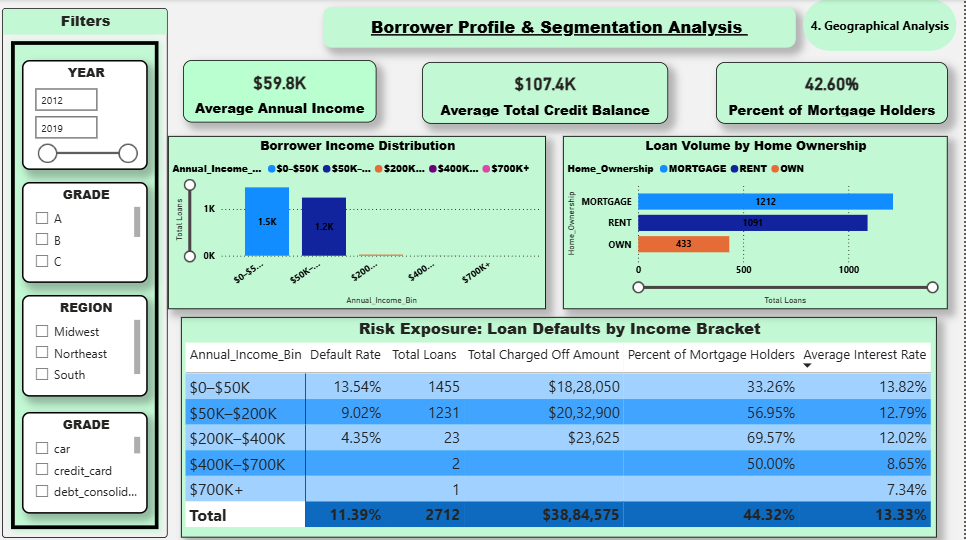

Layout of this report page (visuals, bound fields, positions):
{"tool":"powerbi","page":{"name":"3.  Borrower Profile Analysis","canvas":[1280,720],"ordinal":3},"visuals":[{"type":"shape","title":"Filters","box":[2.9,11.4,220,704.3],"z":0},{"type":"slicer","title":"YEAR","fields":{"Values":["loan_cleaned.Issue_year"]},"box":[29.2,80.6,166.7,145.8],"z":1000},{"type":"card","fields":{"Values":["Dax.Average Annual Income"]},"box":[243.3,81.7,256.7,83.3],"z":2000},{"type":"card","fields":{"Values":["Dax.Average Total Credit Balance"]},"box":[560.2,83.7,327.1,82.2],"z":3000},{"type":"pivotTable","title":"Risk Exposure: Loan Defaults by Income Bracket","fields":{"Rows":["customer_cleaned.Annual_Income_Bin"],"Values":["Dax.Default Rate","Dax.Total Loans","Dax.Total Charged Off Amount","Dax.Percent of Mortgage Holders","Dax.Average Interest Rate"]},"box":[240,422.9,1004.3,292.9],"z":4000},{"type":"slicer","title":"GRADE","fields":{"Values":["loan_cleaned.GRADE"]},"box":[28.9,243.6,166.5,133.5],"z":5000},{"type":"slicer","title":"REGION","fields":{"Values":["state_region.REGION "]},"box":[29.2,393.1,166.7,134.7],"z":6000},{"type":"slicer","title":"GRADE","fields":{"Values":["loan_purposes.purpose"]},"box":[29.2,548.6,166.7,134.7],"z":7000},{"type":"textbox","box":[429.2,11.1,627.8,54.2],"z":8000},{"type":"card","fields":{"Values":["Dax.Percent of Mortgage Holders"]},"box":[951.5,83.7,307.7,82.2],"z":9000},{"type":"columnChart","title":"Borrower Income Distribution","fields":{"Y":["Dax.Total Loans"],"Category":["customer_cleaned.Annual_Income_Bin"],"Series":["customer_cleaned.Annual_Income_Bin"]},"box":[222.6,182.2,501.9,230],"z":10000},{"type":"barChart","title":"Loan Volume by Home Ownership","fields":{"Category":["customer_cleaned.Home_Ownership"],"Y":["Dax.Total Loans"],"Series":["customer_cleaned.Home_Ownership"]},"box":[748.4,182.2,510.9,230],"z":11000},{"type":"pageNavigator","box":[1066.7,0,204.6,69.1],"z":13000}]}

Visuals, with their boxes in screenshot pixels (x1, y1, x2, y2), scaled from the page's 1280x720 canvas onto the 966x540 screenshot:
"Filters" shape: <box>2,9,168,537</box>
"YEAR" slicer: <box>22,60,148,170</box>
card - Dax.Average Annual Income: <box>184,61,377,124</box>
card - Dax.Average Total Credit Balance: <box>423,63,670,124</box>
"Risk Exposure: Loan Defaults by Income Bracket" pivotTable: <box>181,317,939,537</box>
"GRADE" slicer: <box>22,183,147,283</box>
"REGION" slicer: <box>22,295,148,396</box>
"GRADE" slicer: <box>22,411,148,512</box>
textbox: <box>324,8,798,49</box>
card - Dax.Percent of Mortgage Holders: <box>718,63,950,124</box>
"Borrower Income Distribution" columnChart: <box>168,137,547,309</box>
"Loan Volume by Home Ownership" barChart: <box>565,137,950,309</box>
pageNavigator: <box>805,0,959,52</box>
